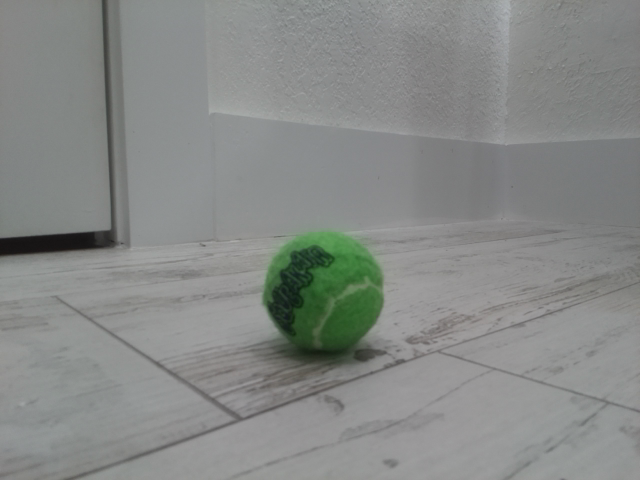green-ball: (261, 230, 385, 355)
